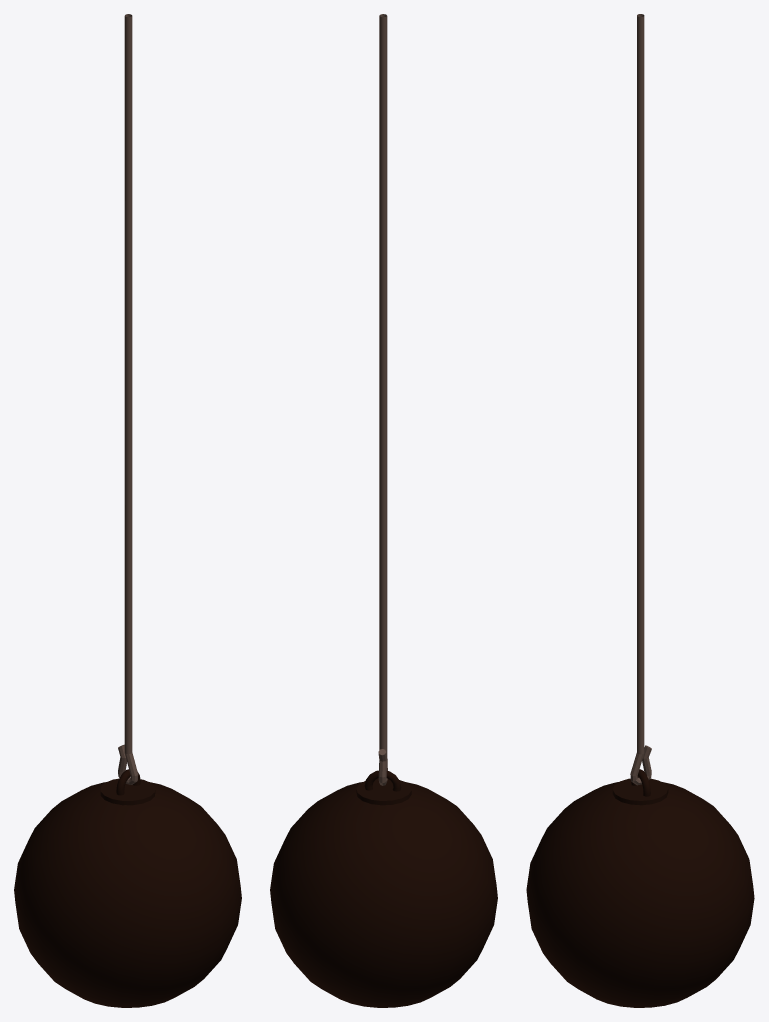
Rendered from WreckingBall.FBX.
3 views of the same model, side by side, from view 1: azimuth 30°, elevation 25°; view 2: azimuth 150°, elevation 25°; view 3: azimuth 270°, elevation 25° (orthographic).
Parts seen in each view (by area): view 1: WreckingBall; view 2: WreckingBall; view 3: WreckingBall.
Part boxes in pixels (x1,y1,x2,y2): WreckingBall: (14, 14, 241, 1007); WreckingBall: (270, 14, 497, 1007); WreckingBall: (526, 14, 754, 1007).
Bounding box in the file's own units: 179 × 179 × 852.
